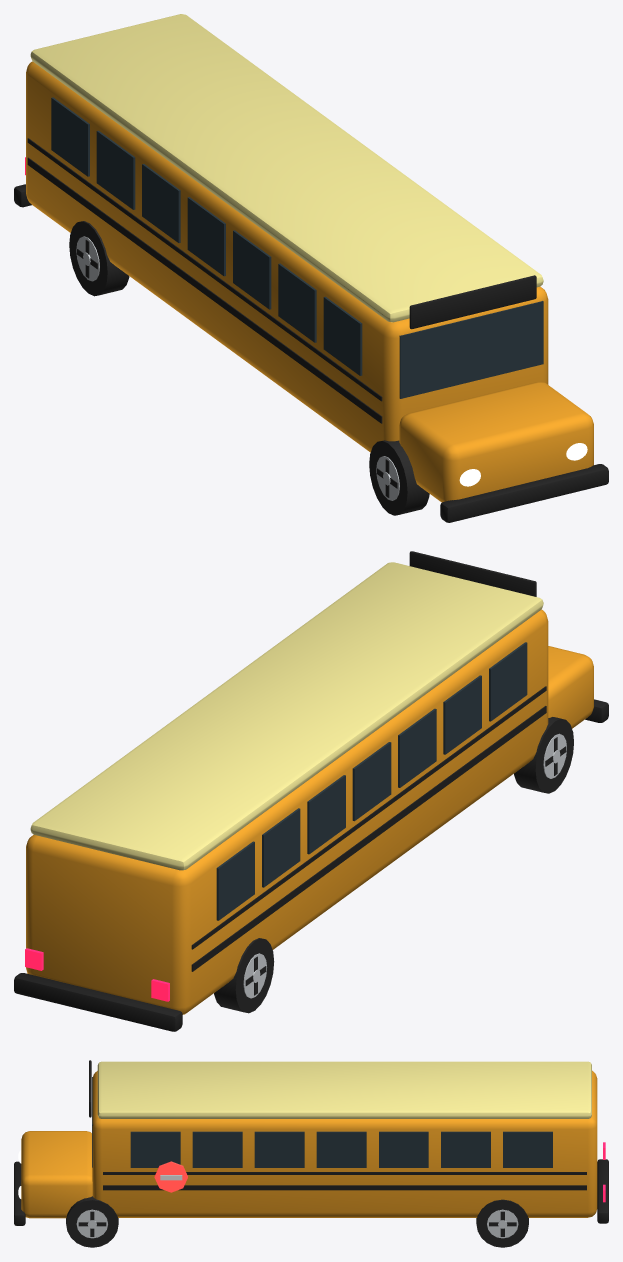
The model's file is multiplayer_bus.glb.
3 views of the same model, one above another, from view 1: azimuth 30°, elevation 25°; view 2: azimuth 150°, elevation 25°; view 3: azimuth 270°, elevation 25° (orthographic). The views are drawn at different scales.
Parts seen in each view (by area): view 1: Bus_body, Wheel_FR, Wheel_RR; view 2: Bus_body, Wheel_FR, Wheel_RR; view 3: Bus_body, Wheel_FL, Wheel_RL.
Boxes of the visible parts, x1,y1,x2,y2 form: Bus_body: (14, 14, 608, 522); Wheel_FR: (369, 440, 429, 515); Wheel_RR: (69, 221, 129, 296); Bus_body: (14, 551, 608, 1031); Wheel_FR: (514, 717, 573, 793); Wheel_RR: (214, 938, 274, 1013); Bus_body: (14, 1060, 608, 1225); Wheel_FL: (66, 1196, 118, 1247); Wheel_RL: (476, 1199, 528, 1247).
Bounding box in the file's own units: 2.6 × 2.92 × 11.31.
